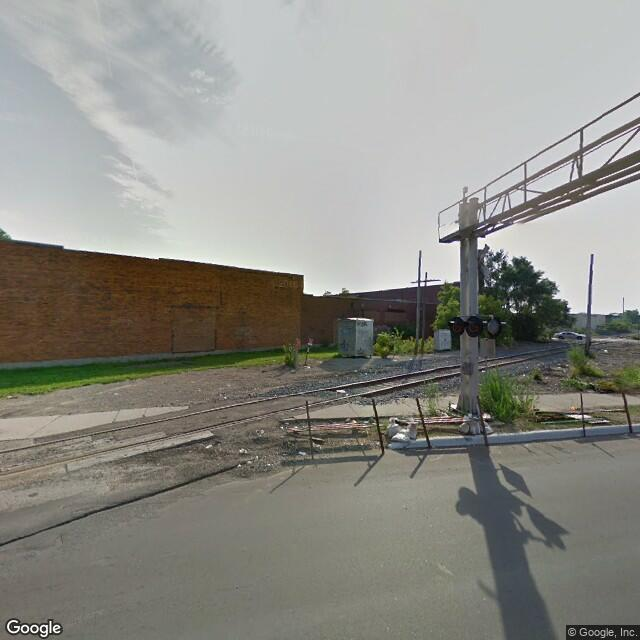litter: (294, 446, 310, 458), (234, 444, 251, 455), (231, 460, 248, 471), (202, 442, 216, 452)
